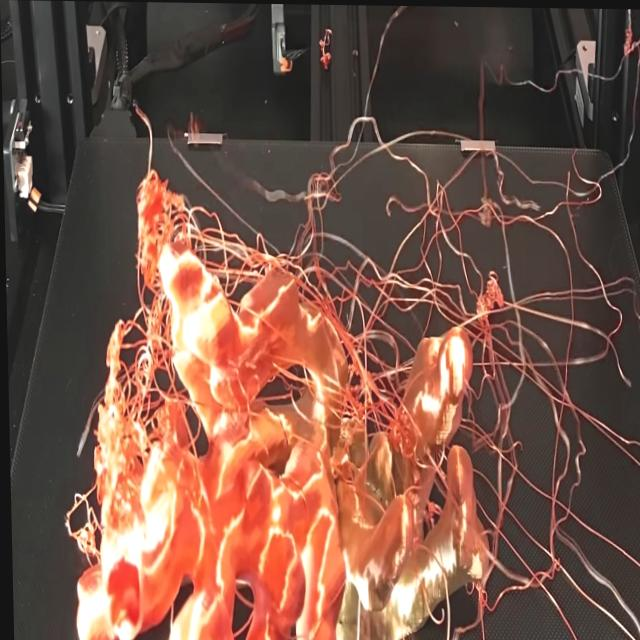spaghetti: (68, 7, 640, 640)
